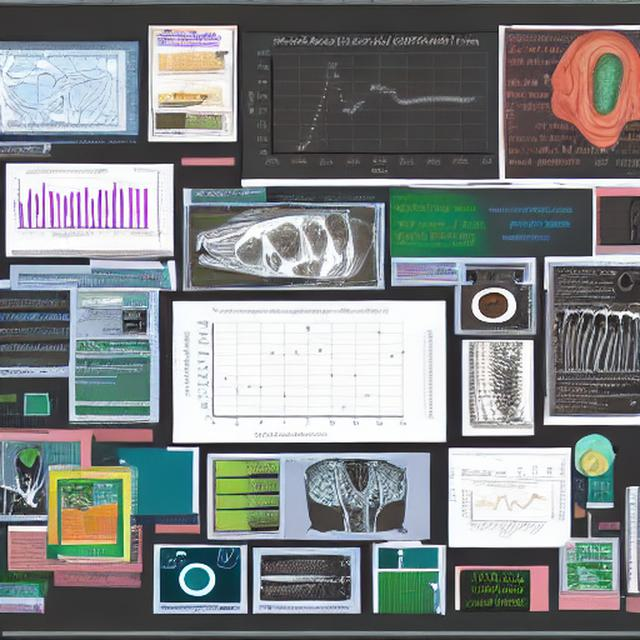Graph: (242, 31, 499, 179), (181, 304, 410, 440), (6, 169, 128, 242), (460, 480, 549, 541)
